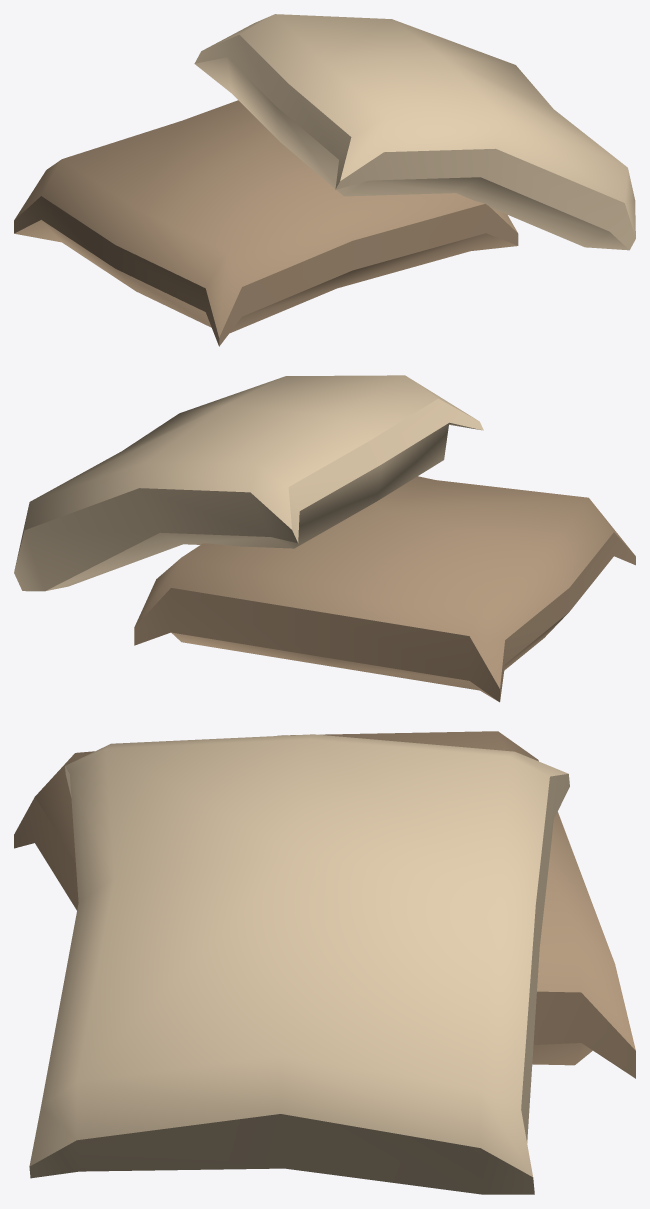
Rendered from Sacks.fbx.
3 views of the same model, one above another, from view 1: azimuth 30°, elevation 25°; view 2: azimuth 150°, elevation 25°; view 3: azimuth 270°, elevation 25° (orthographic). The views are drawn at different scales.
Parts seen in each view (by area): view 1: farm; view 2: farm; view 3: farm.
Boxes of the visible parts, bbox=[...] form: farm: bbox=[14, 14, 635, 346]; farm: bbox=[14, 375, 635, 702]; farm: bbox=[14, 731, 635, 1194].
Bounding box in the file's own units: 75.07 × 26.2 × 53.04.
